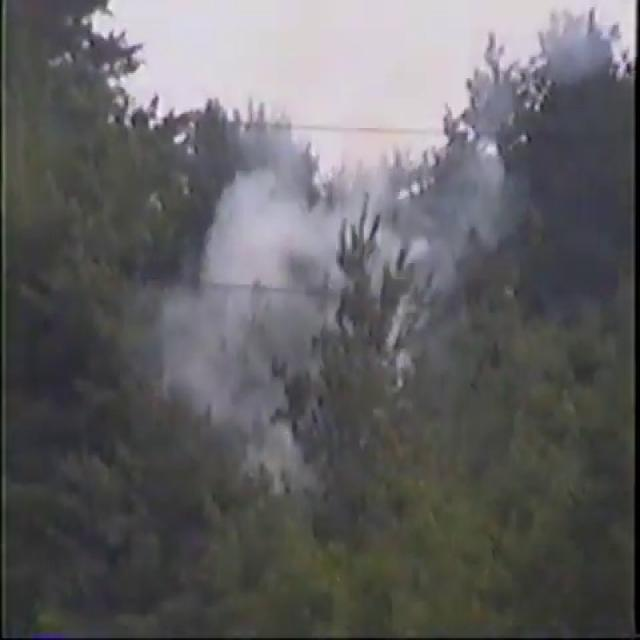Smoke: (150, 59, 377, 497), (386, 146, 514, 382)
